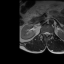CCS_normal: (46, 30, 48, 38)
LFS_normal: (49, 30, 51, 36)
LLS_normal: (48, 30, 49, 36)
RFS_normal: (42, 30, 44, 36)
RLS_normal: (44, 30, 46, 36)
